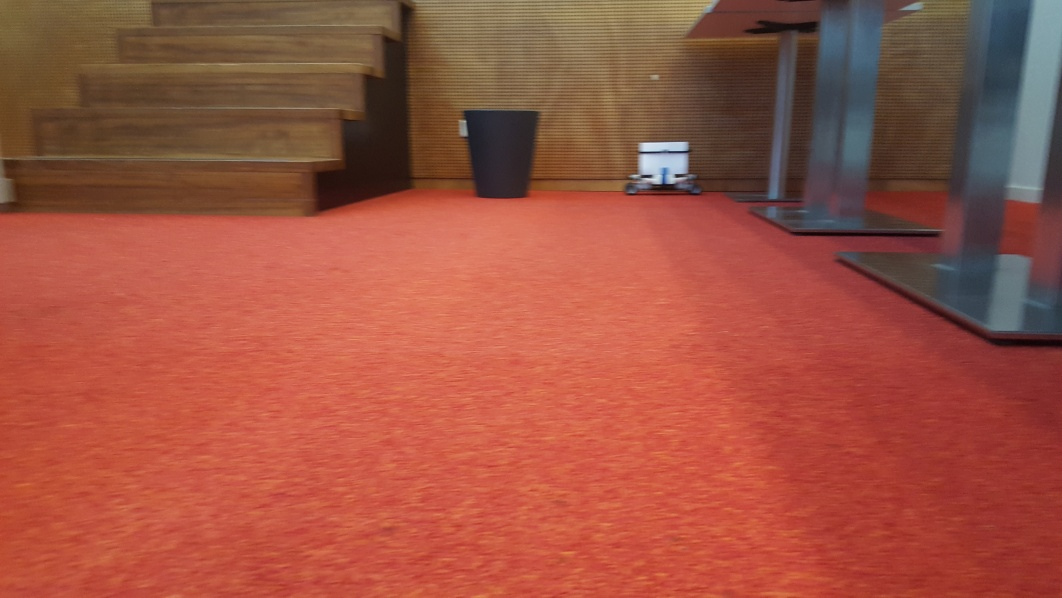car: (623, 137, 699, 194)
